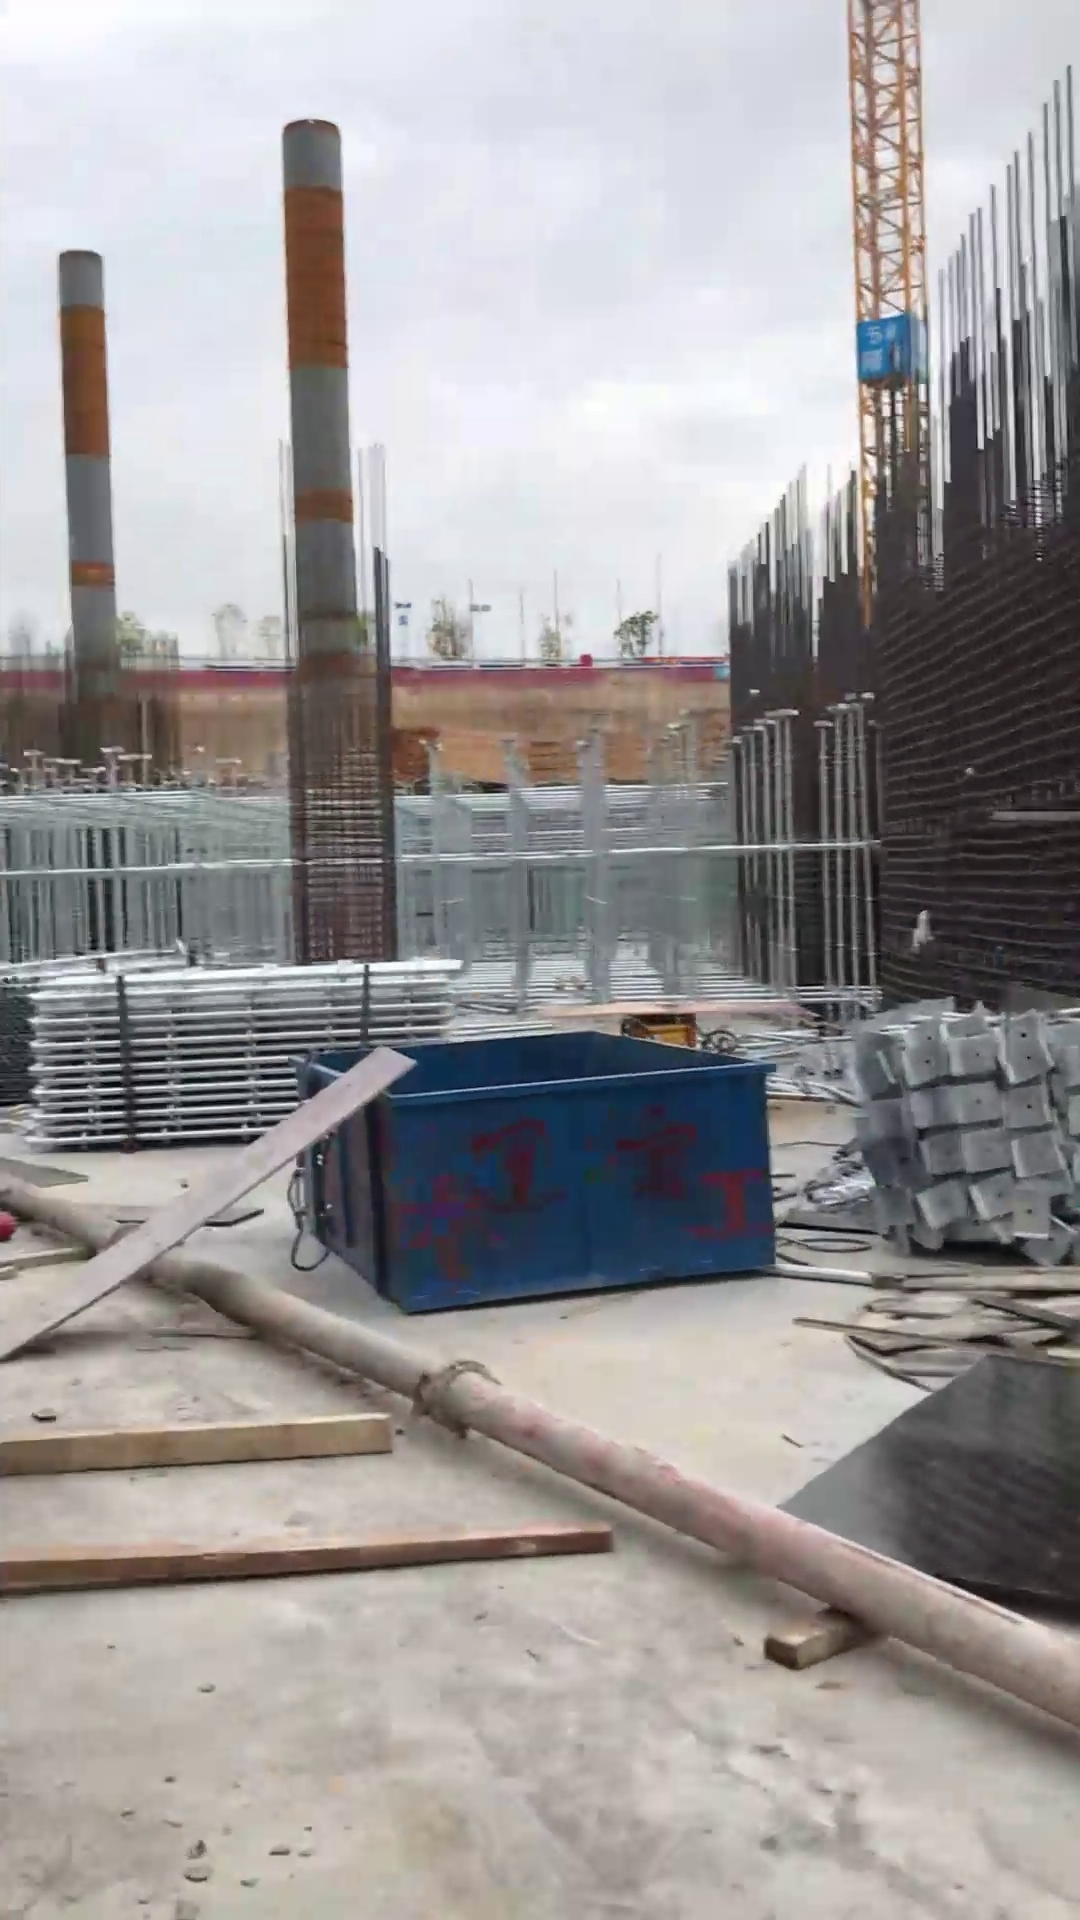cutter: (537, 994, 796, 1051)
hopper: (287, 1026, 779, 1321)
scaffold: (1, 947, 463, 1158)
slogan: (858, 314, 911, 384)
